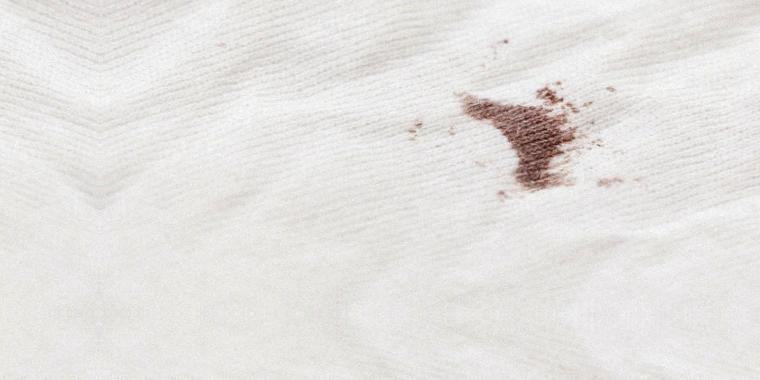stain: (456, 86, 589, 188)
